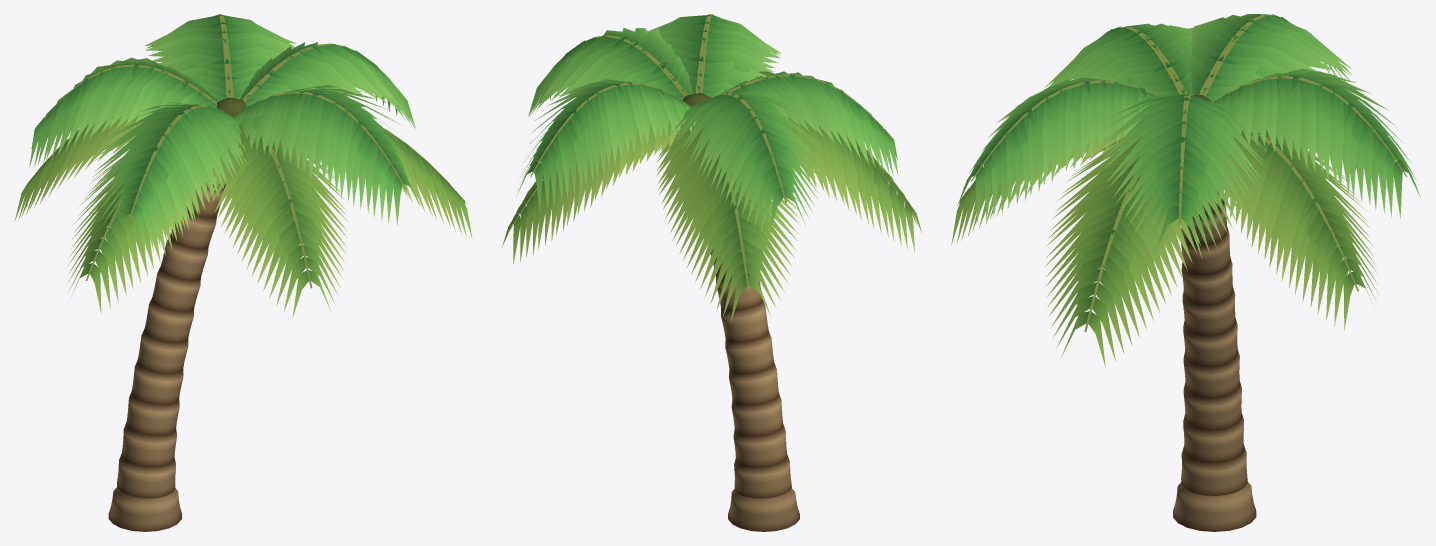
Rendered from palm_ac.glb.
3 views of the same model, side by side, from view 1: azimuth 30°, elevation 25°; view 2: azimuth 150°, elevation 25°; view 3: azimuth 270°, elevation 25° (orthographic). The views are drawn at different scales.
Visible parts, largest first — view 1: palm_ac; view 2: palm_ac; view 3: palm_ac.
Boxes of the visible parts, x1=… form: palm_ac: x1=14, y1=14, x2=472, y2=531; palm_ac: x1=502, y1=14, x2=922, y2=531; palm_ac: x1=951, y1=14, x2=1420, y2=531.
Size of the model in its own units: 3.88 by 4.2 by 3.57.
